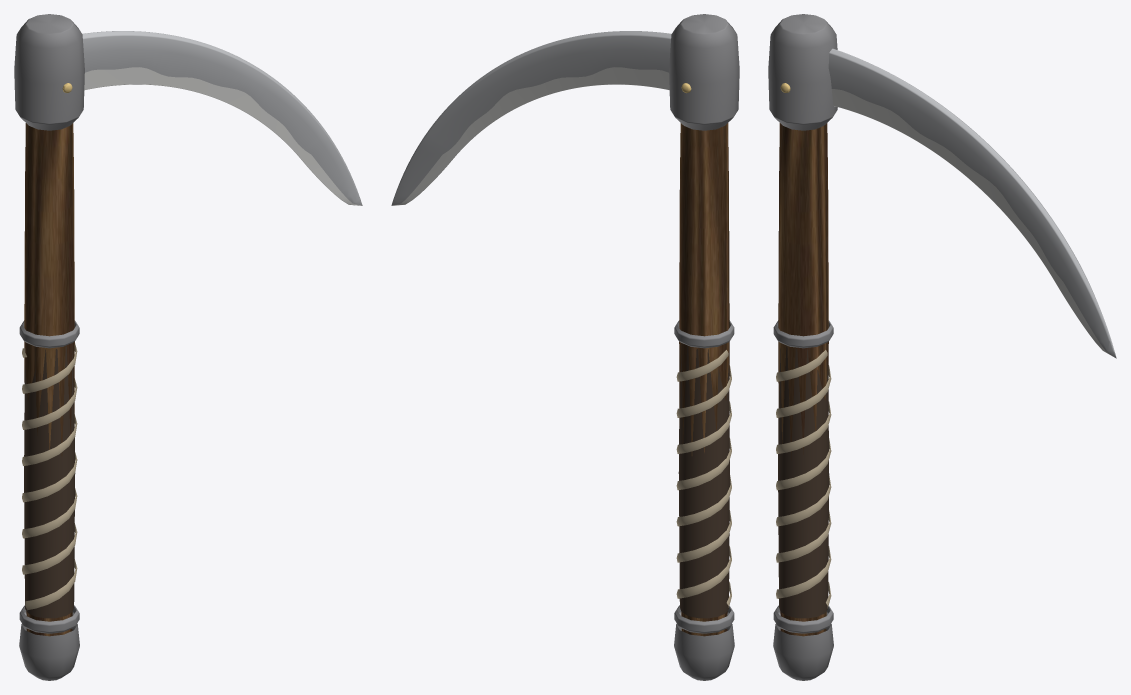
File: gear_edo_kama.glb
3 views of the same model, side by side, from view 1: azimuth 30°, elevation 25°; view 2: azimuth 150°, elevation 25°; view 3: azimuth 330°, elevation 25° (orthographic).
Parts seen in each view (by area): view 1: gear_edo_kama; view 2: gear_edo_kama; view 3: gear_edo_kama.
Boxes of the visible parts, left/top/right/bottom form: gear_edo_kama: left=14, top=14, right=362, bottom=680; gear_edo_kama: left=391, top=14, right=739, bottom=680; gear_edo_kama: left=768, top=14, right=1116, bottom=680.
Bounding box in the file's own units: 0.2672 × 0.484 × 0.0528.
Materials: 7 (1 with a texture image).
